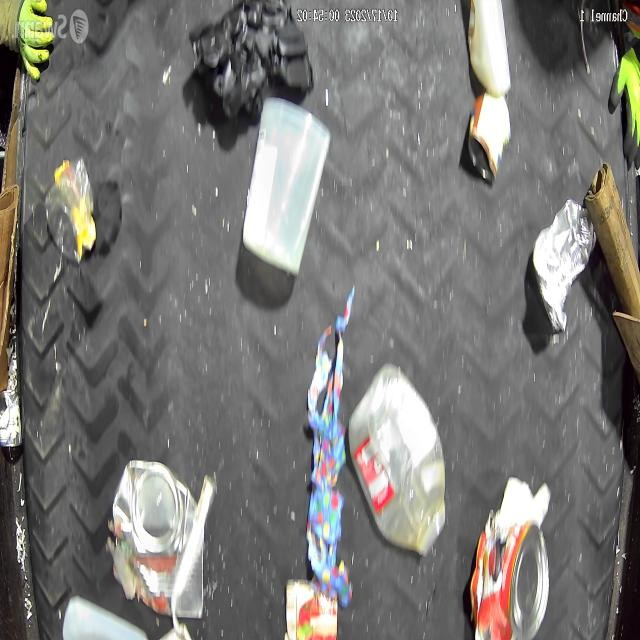can: (111, 455, 206, 623), (468, 508, 552, 640), (465, 93, 509, 182), (0, 390, 23, 449)
non_white_jug: (348, 363, 445, 554)
